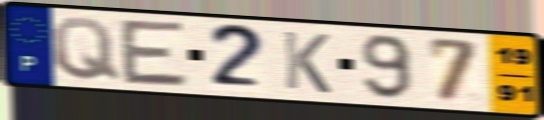2: (203, 22, 271, 96)
7: (424, 36, 486, 105)
9: (358, 32, 416, 102)
E: (117, 17, 191, 90)
K: (280, 28, 334, 96)
Q: (49, 15, 123, 83)
